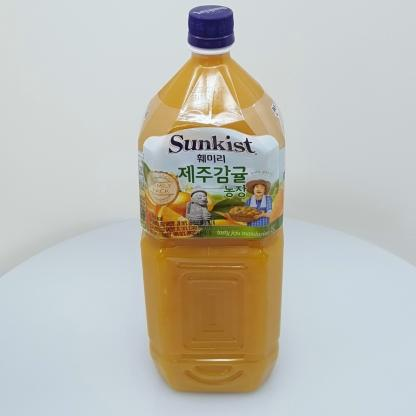-----------2L: (138, 5, 286, 392)
